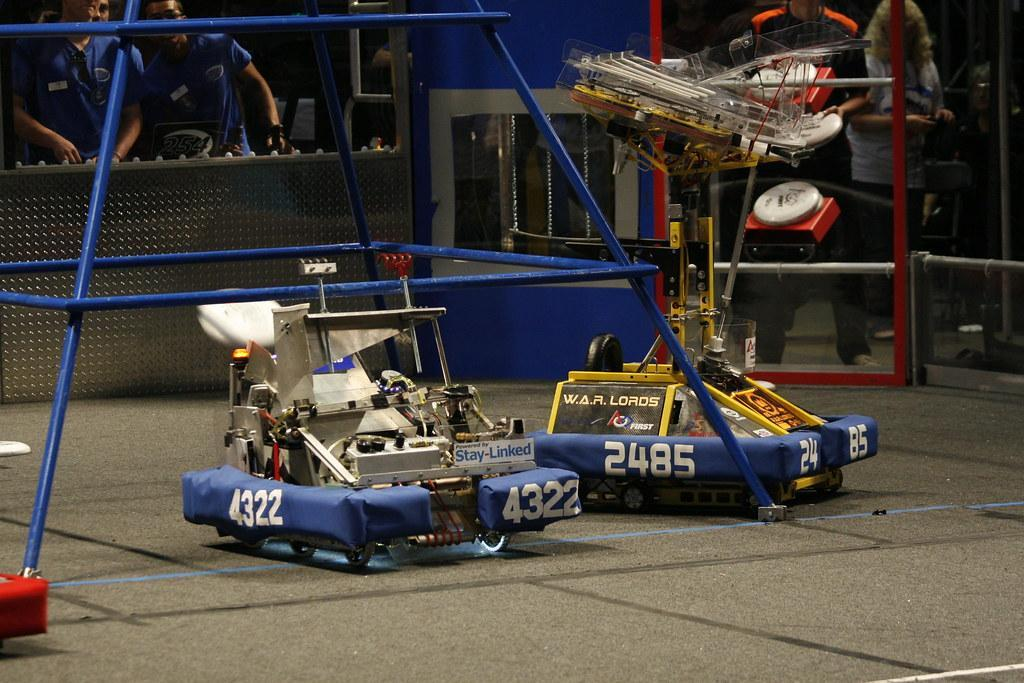robot: (519, 24, 898, 523), (176, 247, 585, 575)
